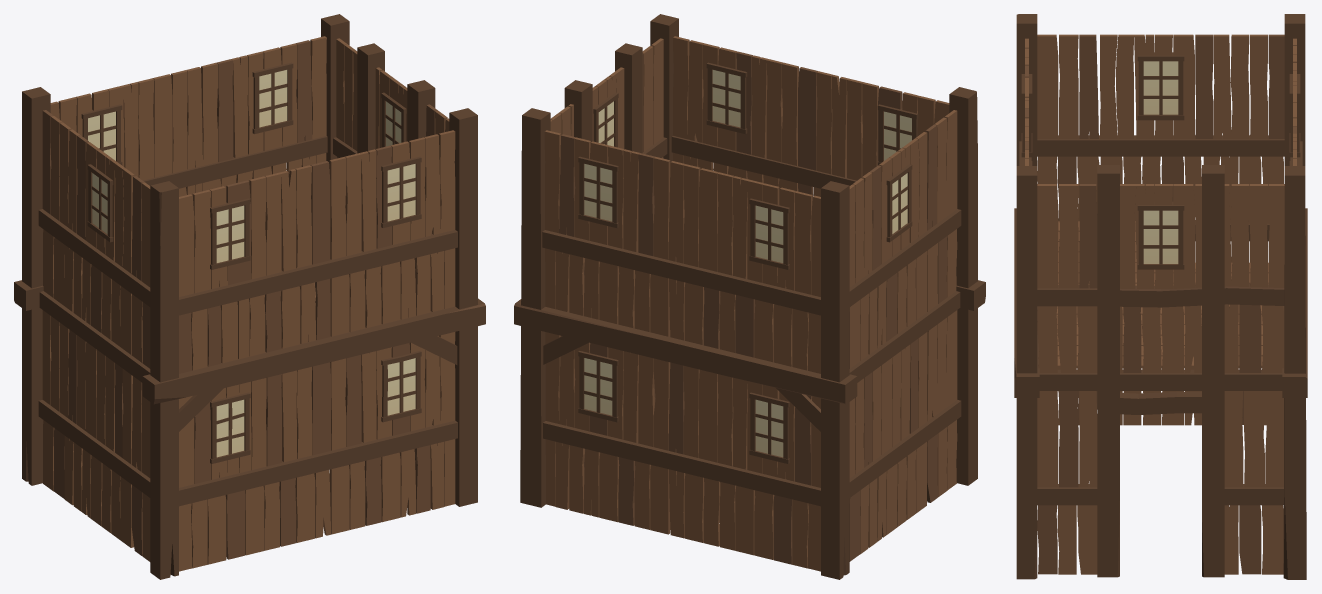
The model's file is House_03.fbx.
3 views of the same model, side by side, from view 1: azimuth 30°, elevation 25°; view 2: azimuth 150°, elevation 25°; view 3: azimuth 270°, elevation 25° (orthographic). The views are drawn at different scales.
Parts seen in each view (by area): view 1: House_03_LOD0; view 2: House_03_LOD0; view 3: House_03_LOD0.
Part boxes in pixels (left/top/right/bottom): House_03_LOD0: left=14, top=14, right=485, bottom=579; House_03_LOD0: left=514, top=14, right=985, bottom=579; House_03_LOD0: left=1014, top=14, right=1307, bottom=579.
Size of what is drawn, in the model's own units: 4.43 by 4.95 by 3.26.
